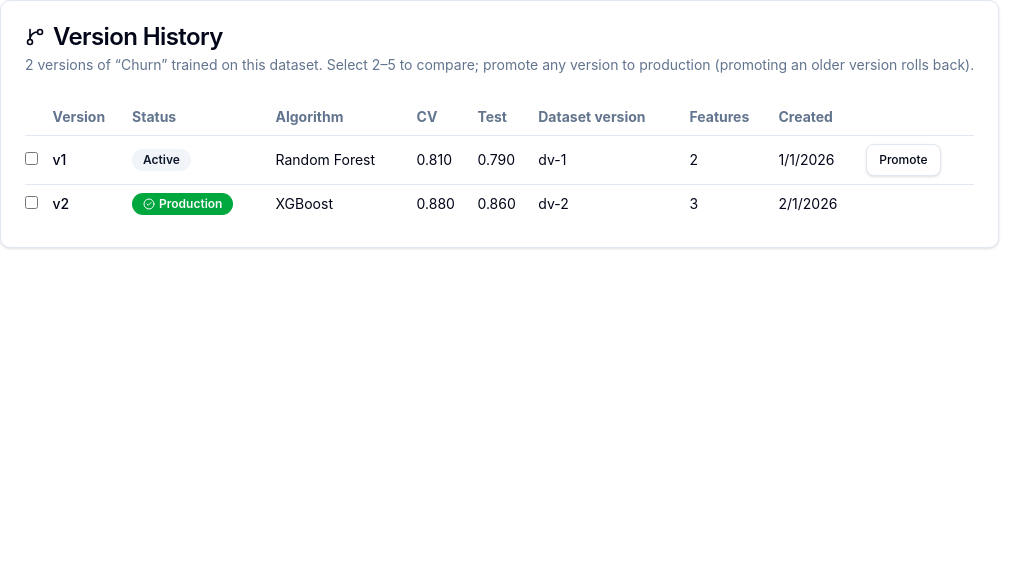
Test: ModelVersions › compares 2 selected versions side by side
Expected: the heading "Version History" is shown, [25,22,223,51]
Click the checkbox named "Select version 1" at [32, 158], box [25,152,38,165]
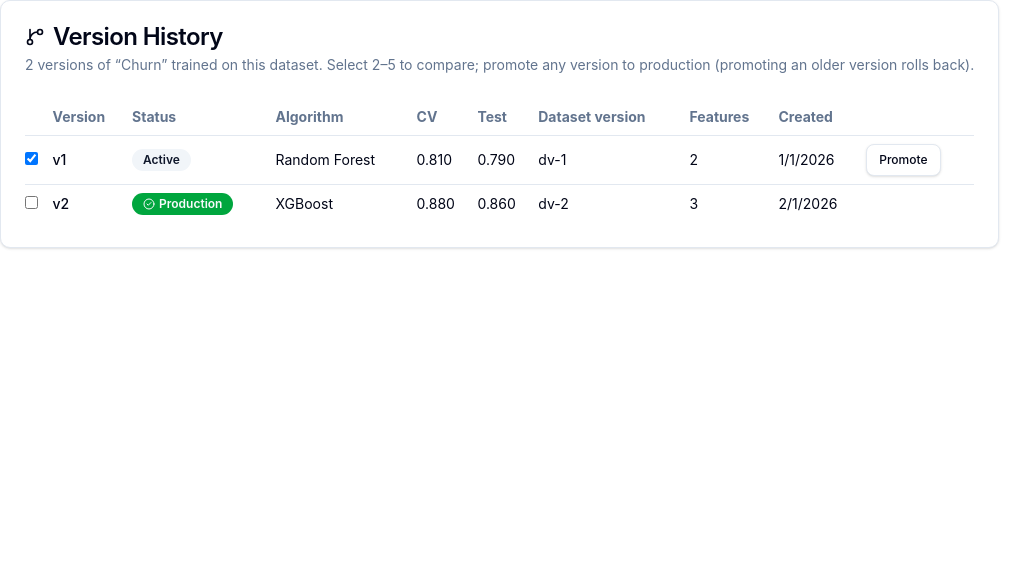
Click the checkbox named "Select version 2" at [32, 202], box [25,196,38,209]
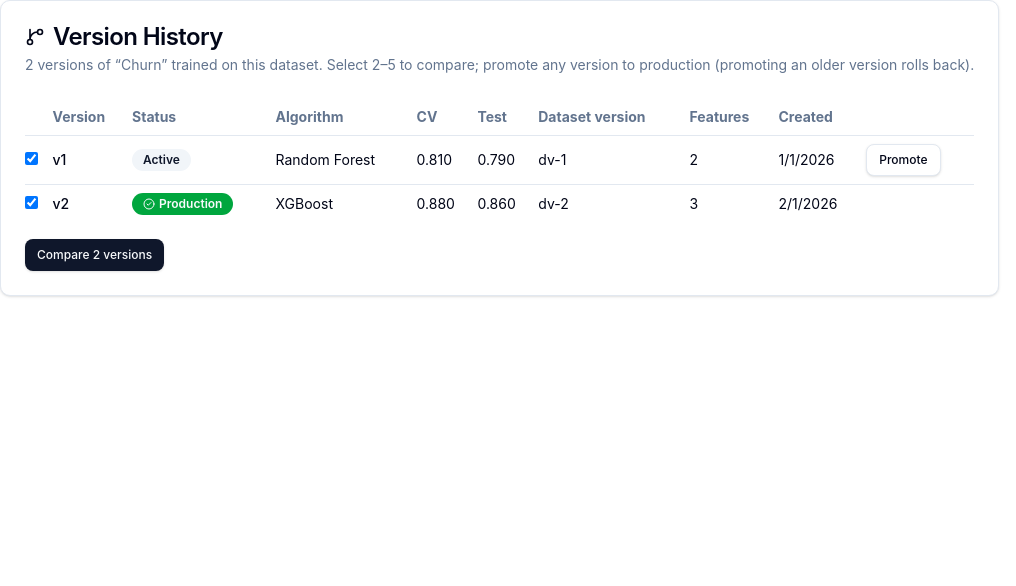
Click the button with test id "compare-versions" at [95, 255], box [25,239,164,271]
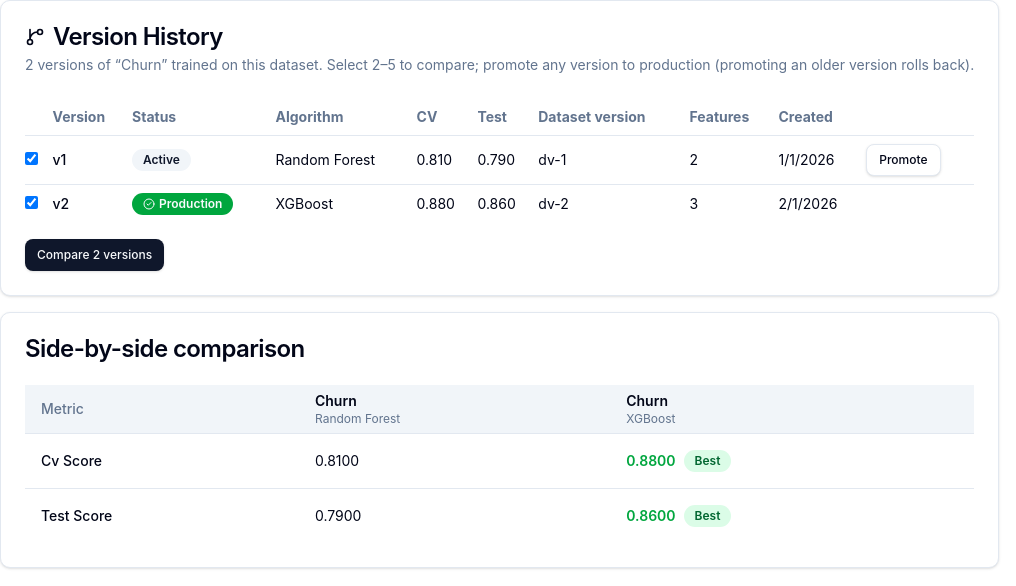
Expected: the heading "Side-by-side comparison" is shown, [25,334,305,363]
